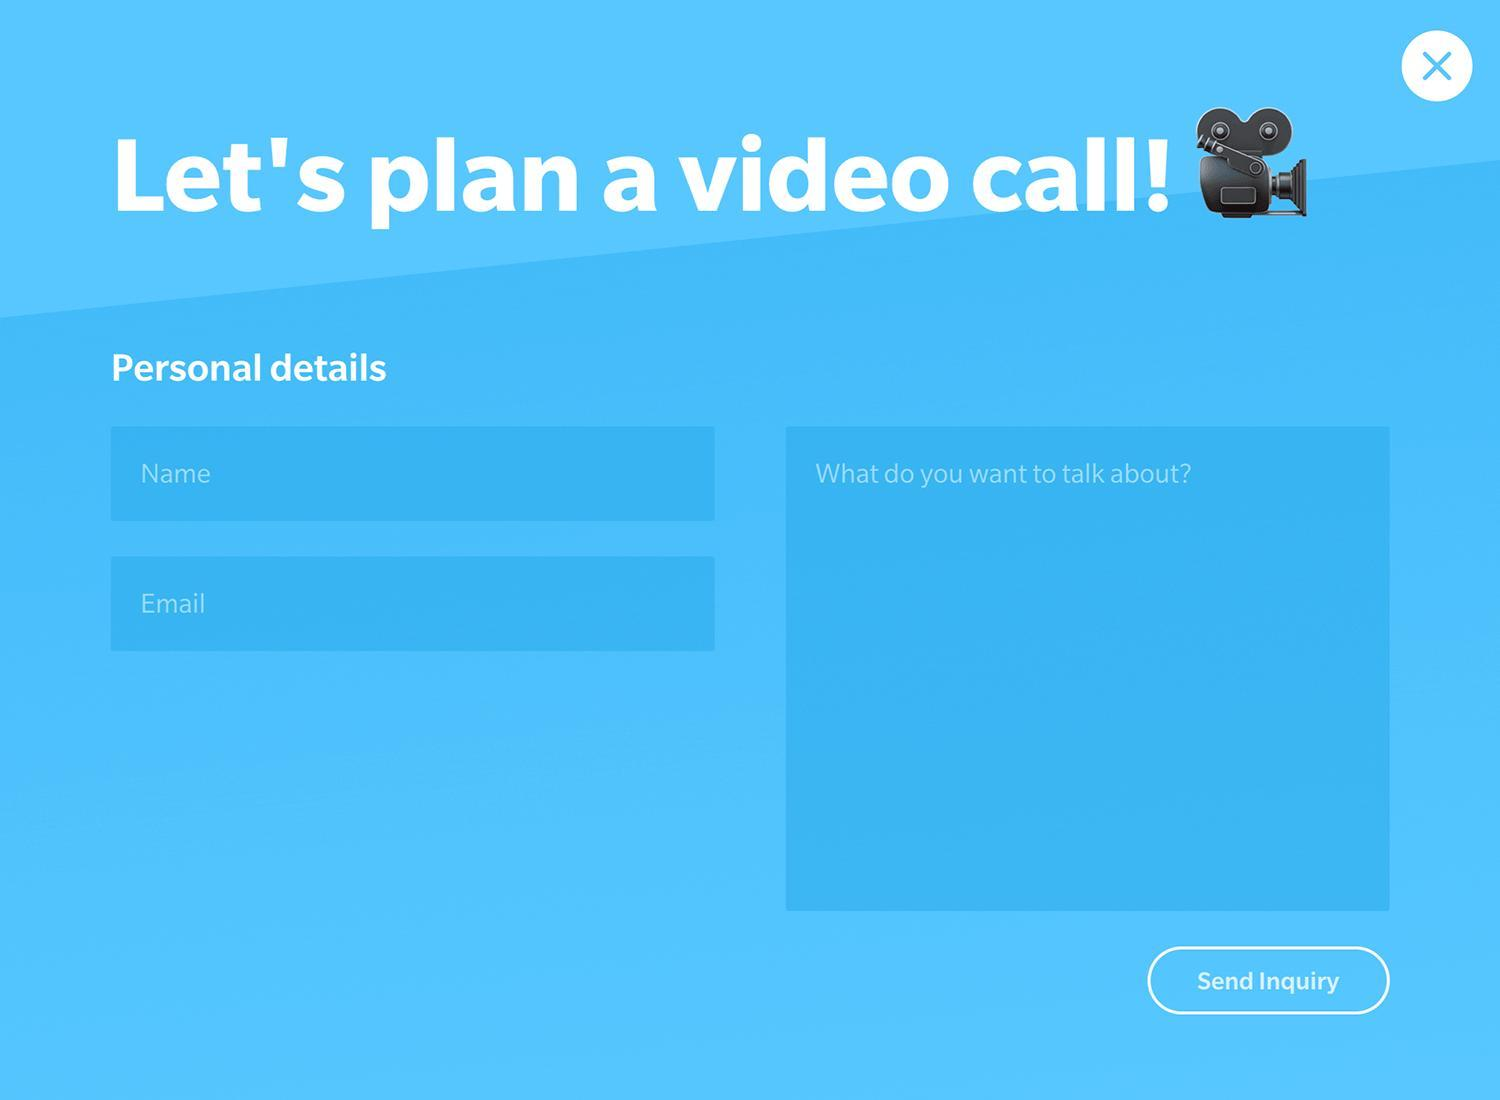button: (1149, 950, 1394, 1016)
icon: (1405, 29, 1476, 104)
input: (107, 418, 722, 528), (105, 551, 722, 653)
label: (105, 340, 399, 398)
